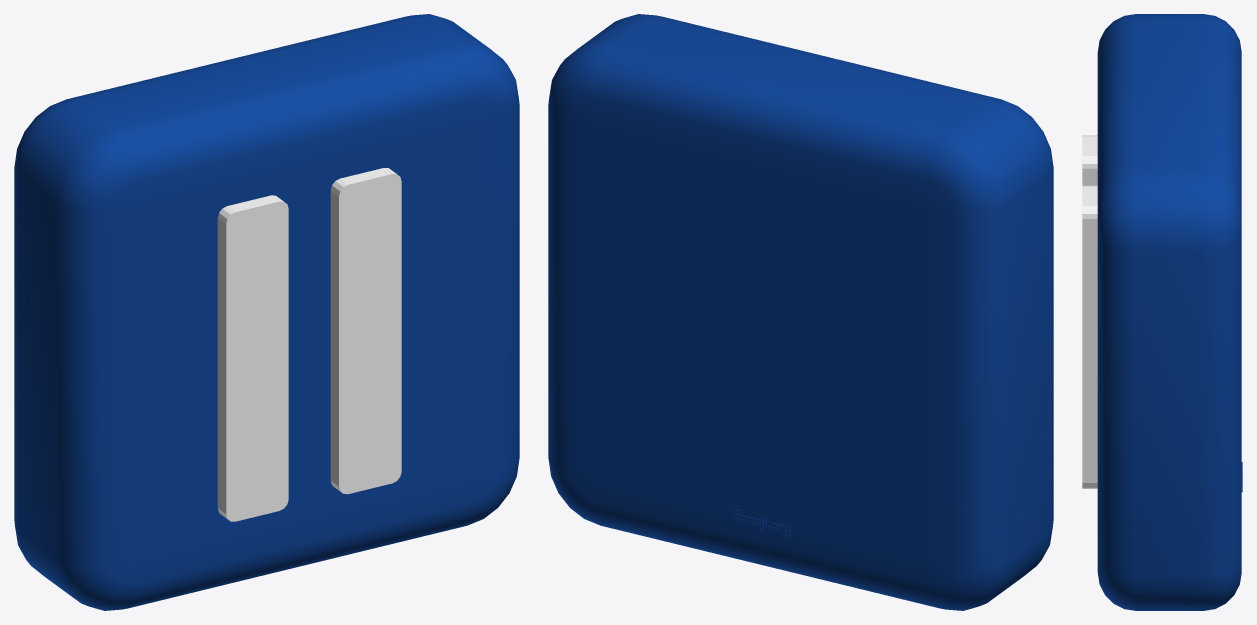
The model's file is pause_button.fbx.
The picture shows the model from 3 angles, left to right: view 1: azimuth 30°, elevation 25°; view 2: azimuth 150°, elevation 25°; view 3: azimuth 270°, elevation 25°; orthographic projection. The views are drawn at different scales.
Parts seen in each view (by area): view 1: Cube.6430; view 2: Cube.6430; view 3: Cube.6430.
Part boxes in pixels (bbox=[...]): Cube.6430: bbox=[14, 14, 519, 610]; Cube.6430: bbox=[548, 14, 1053, 610]; Cube.6430: bbox=[1082, 14, 1242, 610].
Size of the model in its own units: 220 by 220 by 73.37.
1 material, 1 textured.
